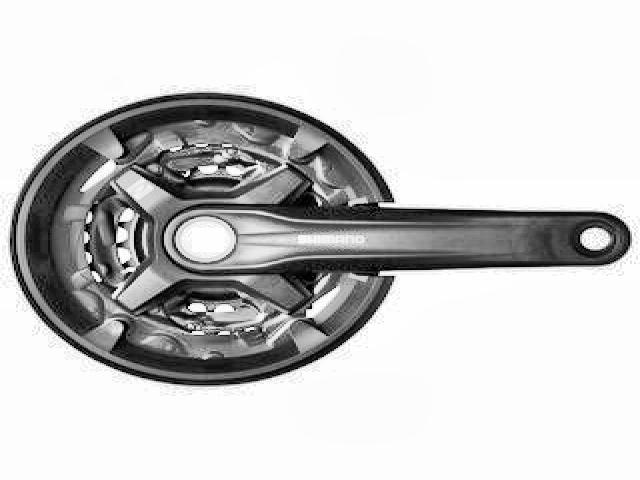cranks_set: (8, 92, 632, 388)
